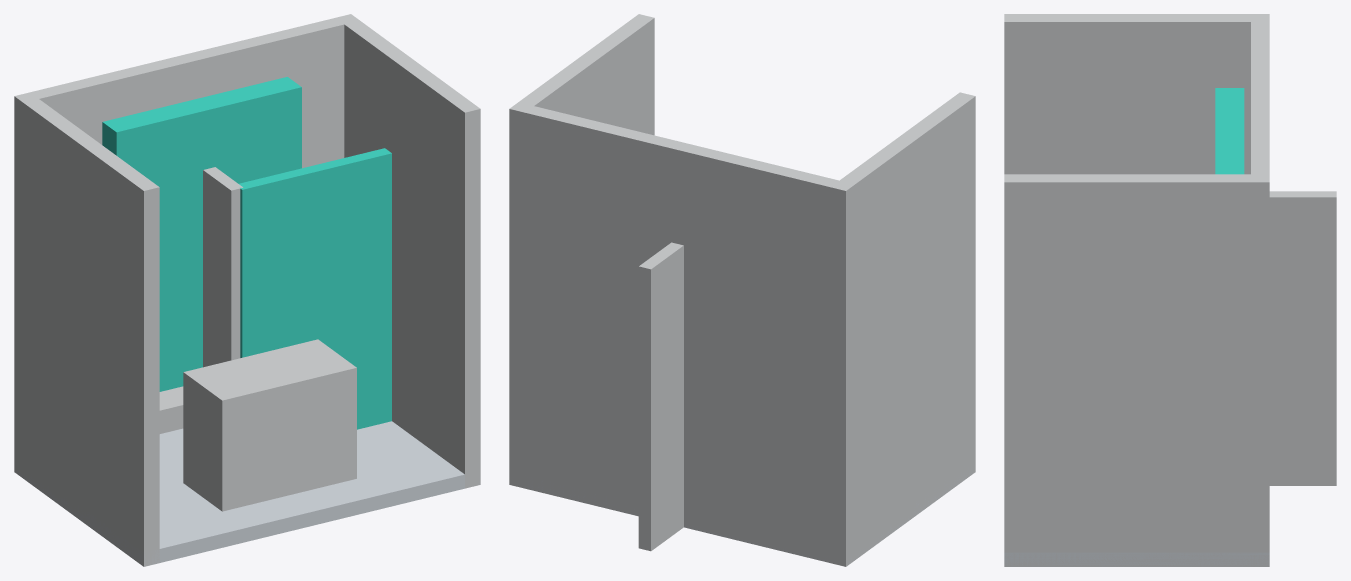
The picture shows the model from 3 angles, left to right: view 1: azimuth 30°, elevation 25°; view 2: azimuth 150°, elevation 25°; view 3: azimuth 270°, elevation 25°; orthographic projection. The views are drawn at different scales.
Visible parts, largest first — view 1: Exhibition Booth Concept; view 2: Exhibition Booth Concept; view 3: Exhibition Booth Concept.
Boxes of the visible parts, x1,y1,x2,y2 form: Exhibition Booth Concept: (14,14,480,566); Exhibition Booth Concept: (509,14,975,566); Exhibition Booth Concept: (1004,14,1336,566).
Bounding box in the file's own units: 3 × 3.2 × 2.5.
